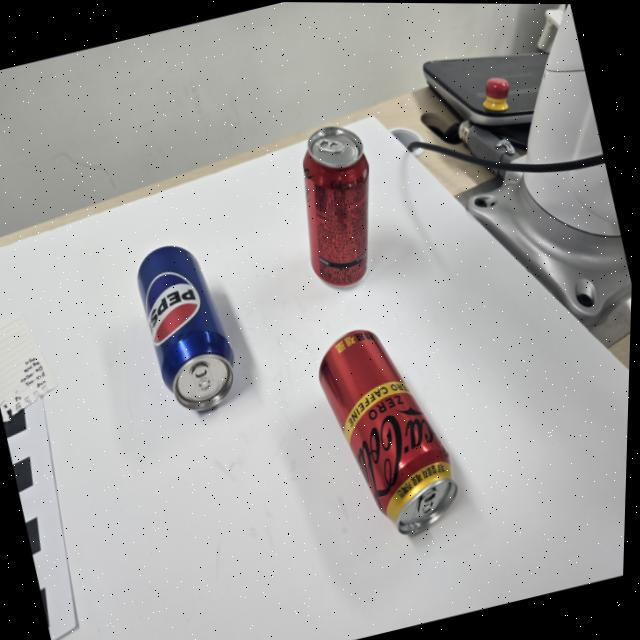can_coke_decaf: (319, 330, 459, 536)
can_coke_zero: (302, 124, 369, 284)
can_pepsi: (134, 246, 235, 410)
